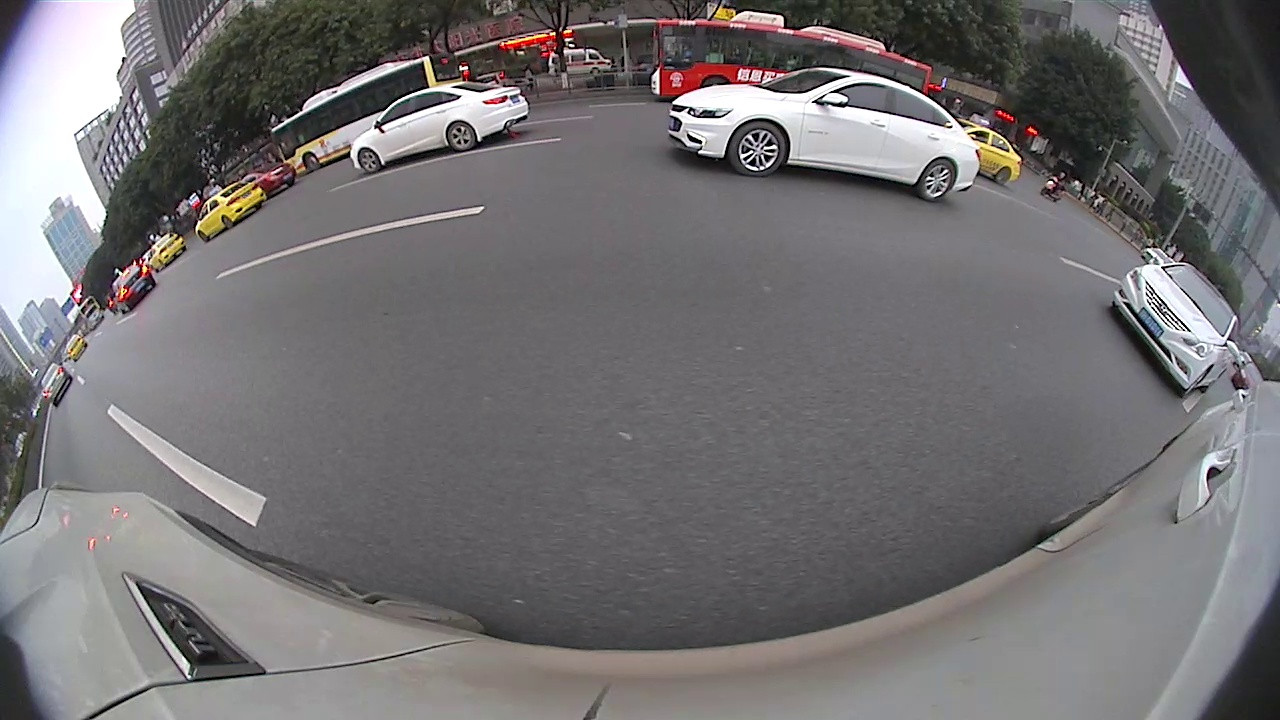bus: (650, 10, 933, 98), (270, 53, 465, 176)
car: (665, 66, 981, 204), (1110, 260, 1244, 398), (348, 82, 530, 174), (943, 118, 1020, 188), (194, 180, 267, 243), (109, 263, 158, 316), (147, 231, 188, 273), (39, 361, 74, 407)
front: (730, 122, 789, 178), (357, 150, 379, 171), (303, 154, 318, 170)
rear: (919, 158, 954, 201), (449, 123, 473, 148), (996, 169, 1010, 187)
rider: (1038, 170, 1066, 204)
